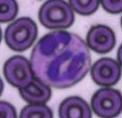N: (30, 30, 90, 87)
